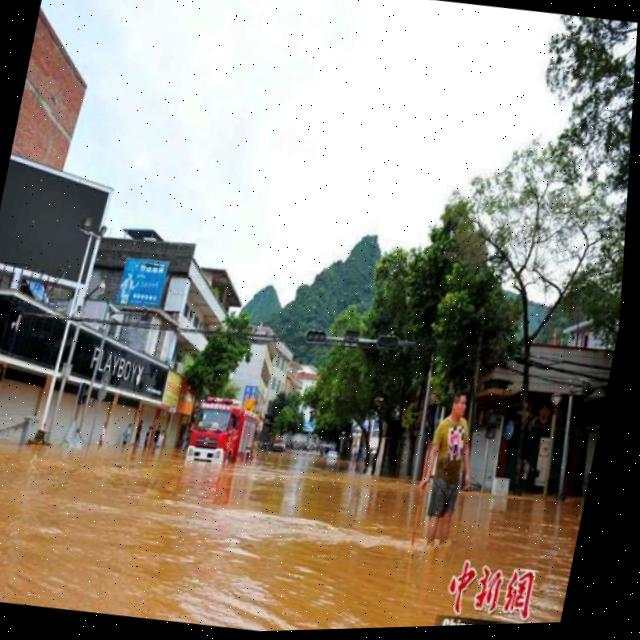civilian: (395, 366, 501, 572), (511, 451, 542, 499), (89, 420, 113, 454), (129, 418, 146, 451), (118, 420, 136, 451), (154, 425, 171, 455), (149, 418, 163, 451), (142, 424, 156, 451)
